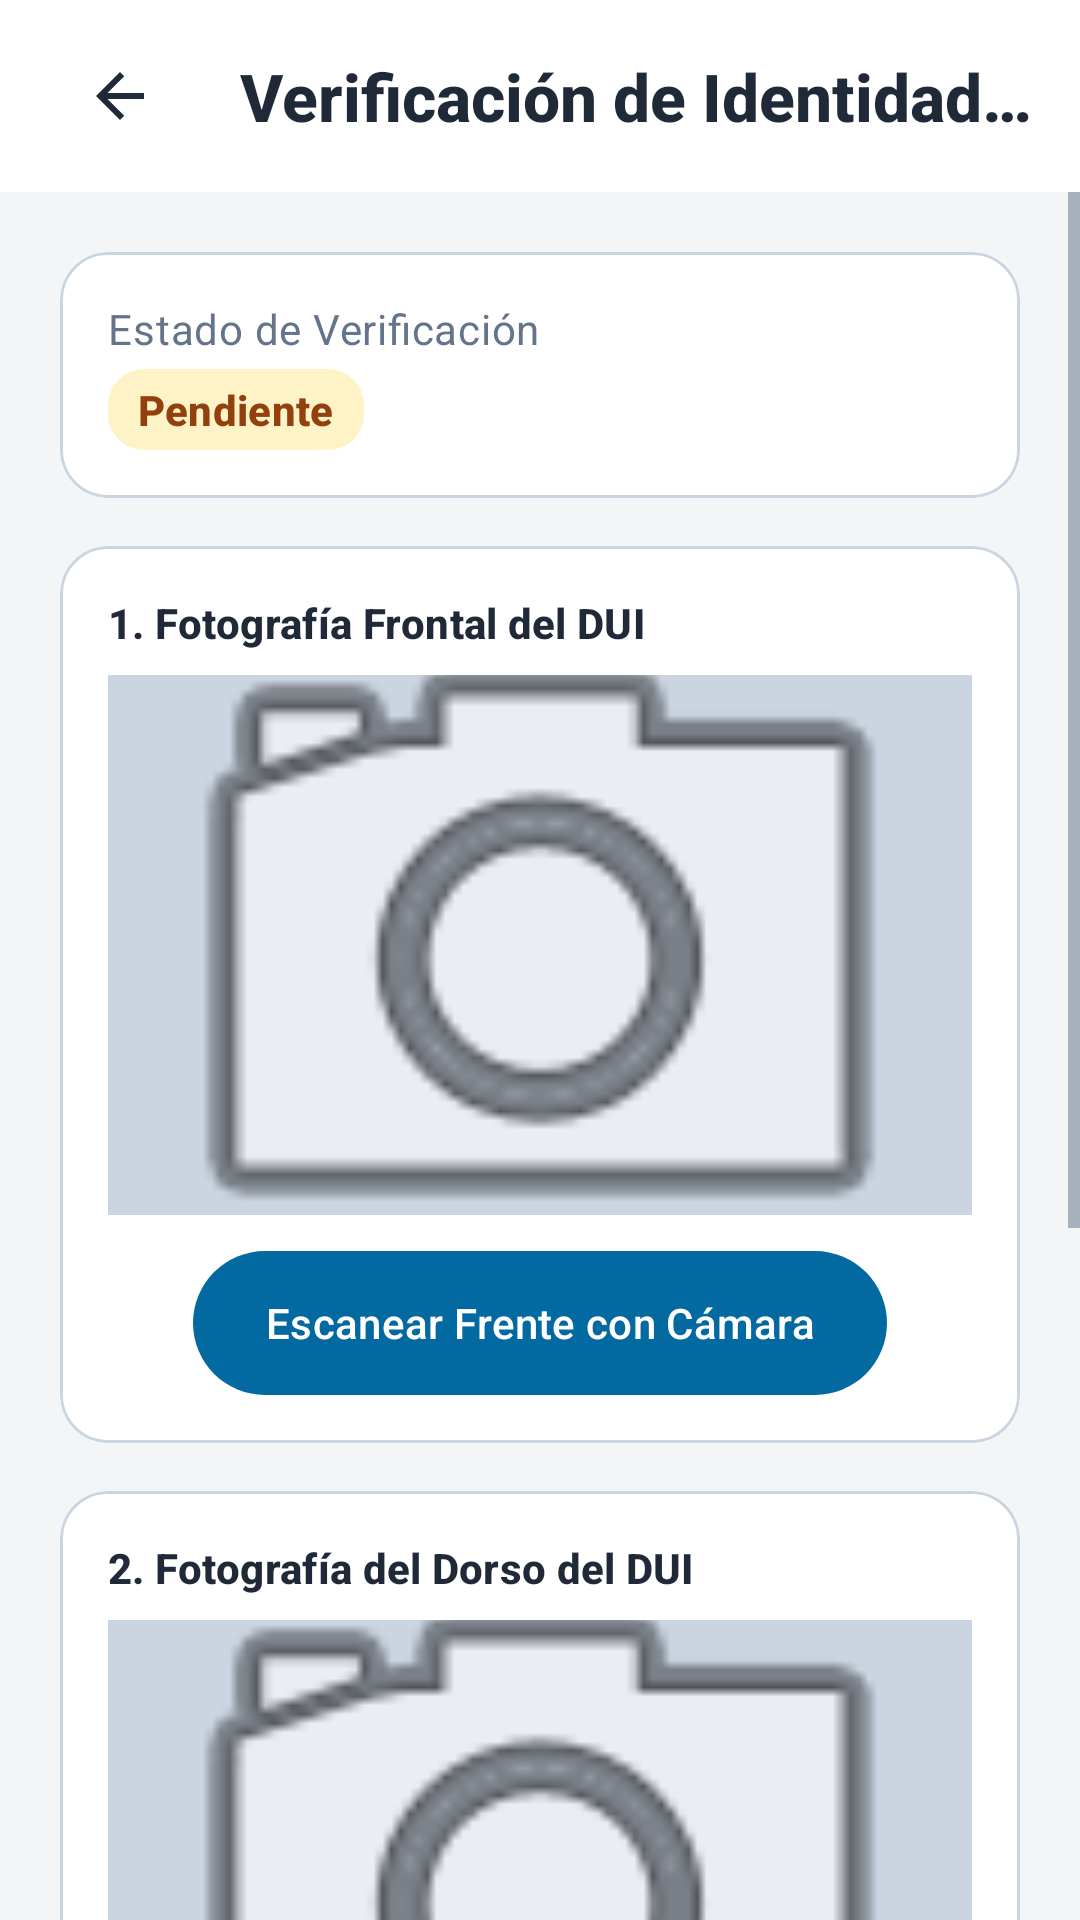

Screen size 1080x1920. Icon name, then its center in pixels as (x=x, y=y):
Regresar: (x=120, y=96)
